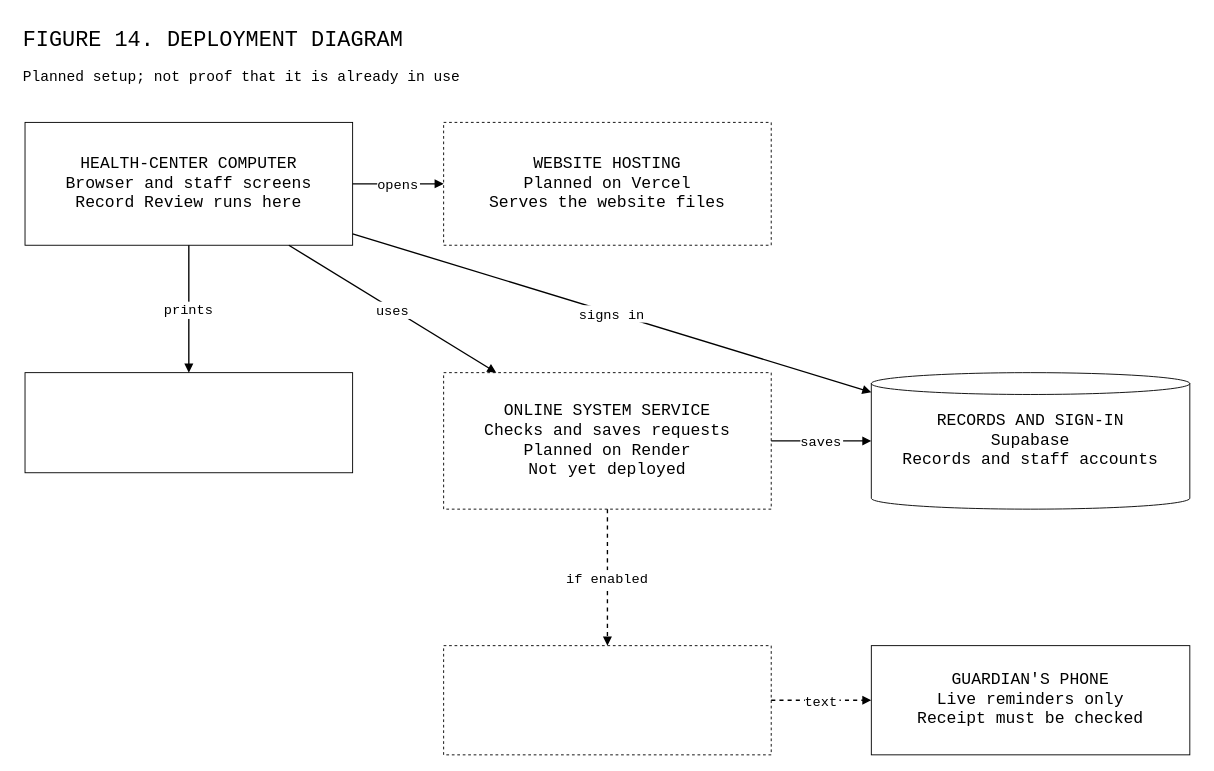
Some shapes in this 1214 by 771 pixel diagram are drawn without their labels. The shapes that lost their labels are listed below. From the top down, each one's centre as x and y in pixels, then its label:
At (188,422): "CLINIC PRINTER Prints child records".
At (607,700): "TEXT-MESSAGE SERVICE Approved live setup only Demo sends no real texts".
